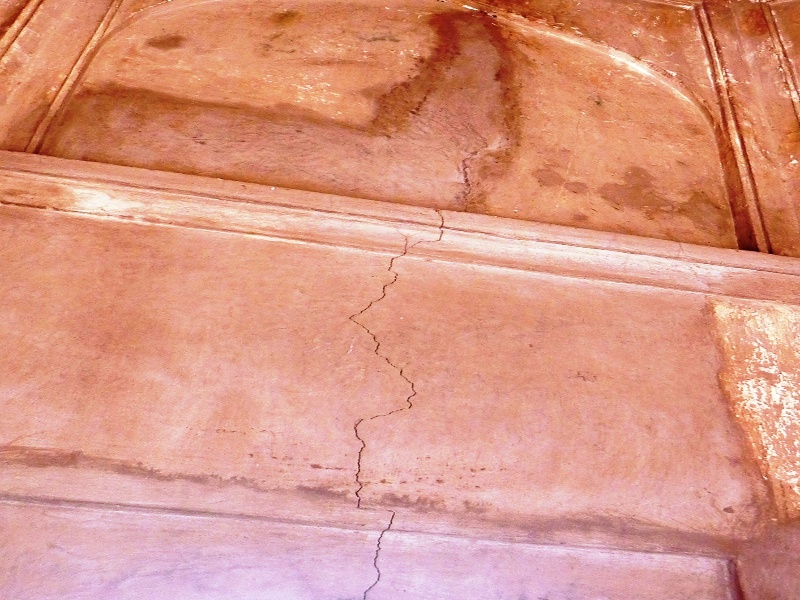Crack: (338, 249, 420, 600)
